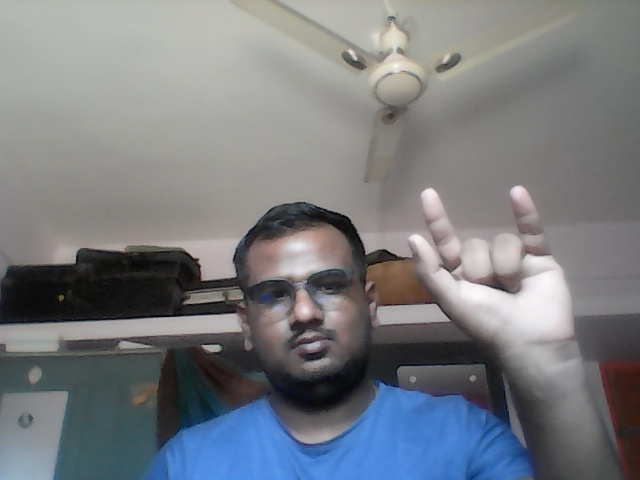I Love You: (405, 182, 592, 355)
